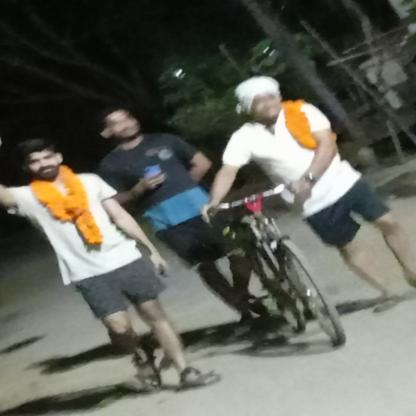bike: (195, 175, 363, 351)
